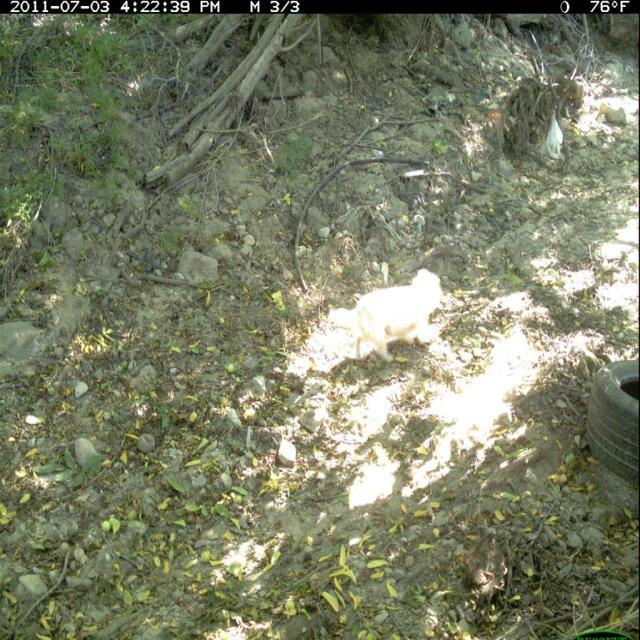dog: (328, 265, 448, 368)
